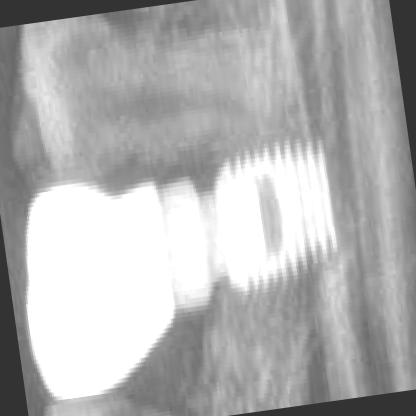Bicon: (213, 142, 342, 302)
